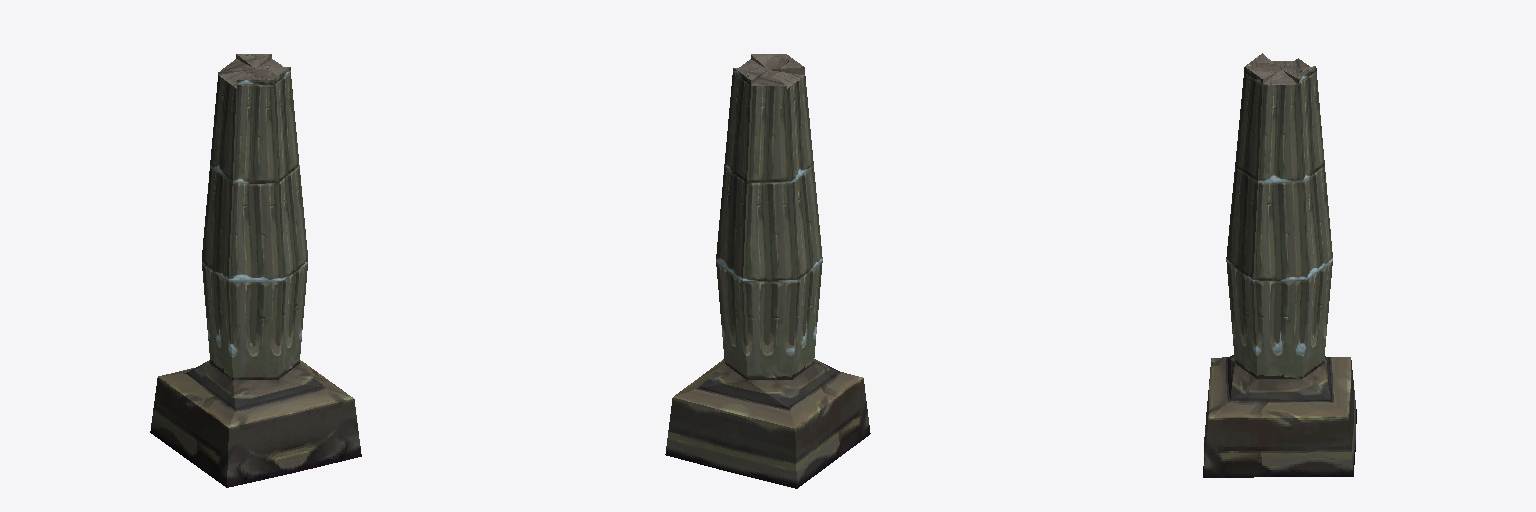
3 renders of one model, left to right at view 1: azimuth 30°, elevation 25°; view 2: azimuth 150°, elevation 25°; view 3: azimuth 270°, elevation 25°, orthographic.
Visible parts, largest first — view 1: ti_roadcolumn02; view 2: ti_roadcolumn02; view 3: ti_roadcolumn02.
Boxes of the visible parts, x1,y1,x2,y2 form: ti_roadcolumn02: [150, 54, 361, 487]; ti_roadcolumn02: [665, 54, 870, 488]; ti_roadcolumn02: [1203, 53, 1356, 477].
Size of the model in its own units: 16.08 by 43.09 by 15.84.
3 materials, 3 textured.